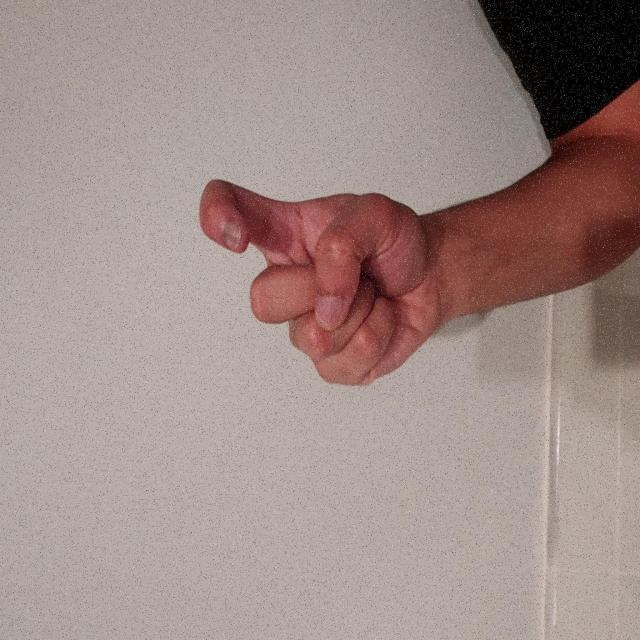X: (183, 261, 348, 607)
